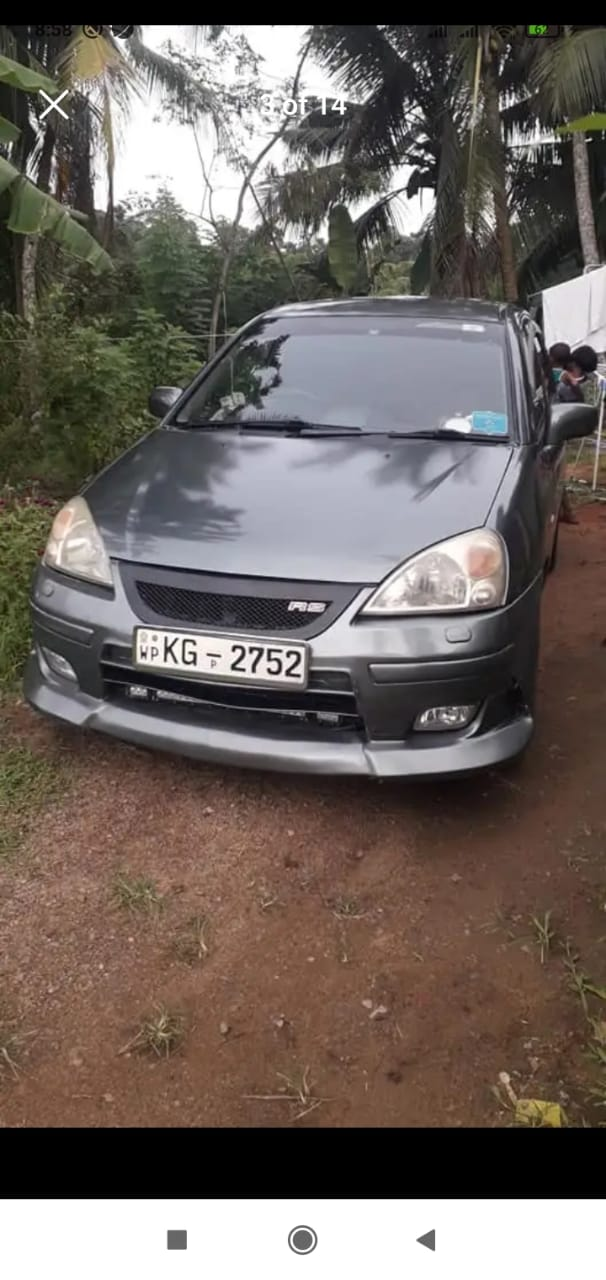number_plate: (133, 630, 310, 689)
